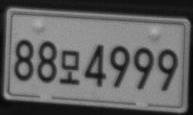4: (83, 44, 106, 87)
8: (13, 38, 34, 81), (37, 40, 58, 83)
9: (157, 47, 179, 91), (133, 46, 154, 90), (109, 44, 130, 87)
모: (59, 49, 79, 84)
